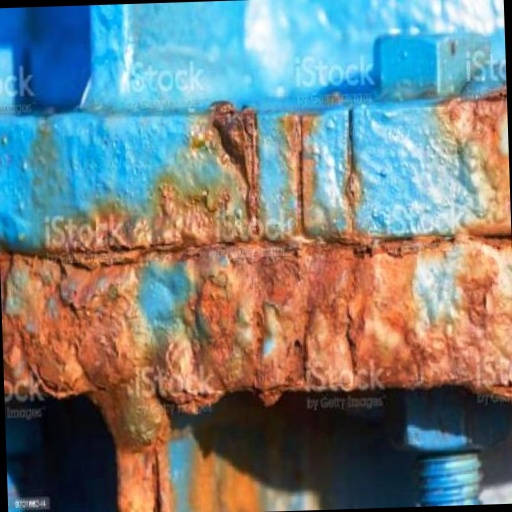corrosion: (2, 231, 512, 417), (435, 84, 510, 203)
crack: (287, 108, 328, 234), (338, 106, 372, 243), (142, 444, 171, 512)
